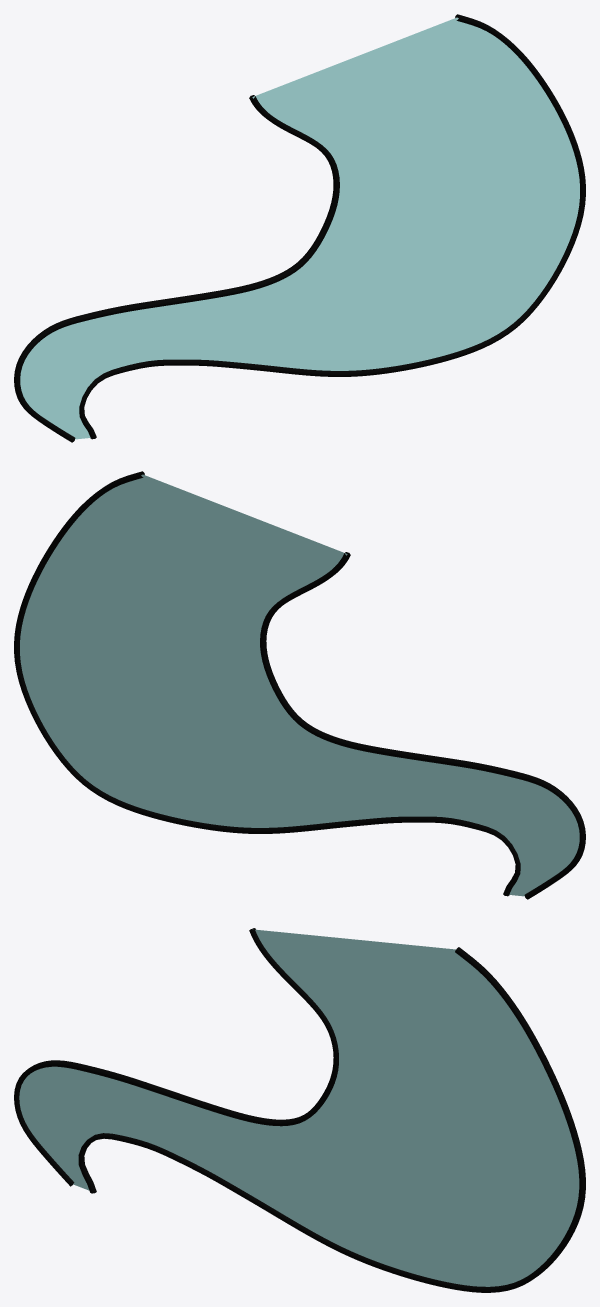
Rendered from Smoke.fbx.
3 renders of one model, top to bottom at view 1: azimuth 30°, elevation 25°; view 2: azimuth 150°, elevation 25°; view 3: azimuth 330°, elevation 25°, orthographic.
Parts seen in each view (by area): view 1: Smoke_Base_GEO; view 2: Smoke_Base_GEO; view 3: Smoke_Base_GEO.
Boxes of the visible parts, bbox=[...] form: Smoke_Base_GEO: bbox=[14, 14, 585, 442]; Smoke_Base_GEO: bbox=[14, 471, 585, 899]; Smoke_Base_GEO: bbox=[14, 928, 585, 1292].
Size of the model in its own units: 3.88 by 2.23 by 0.0408.
